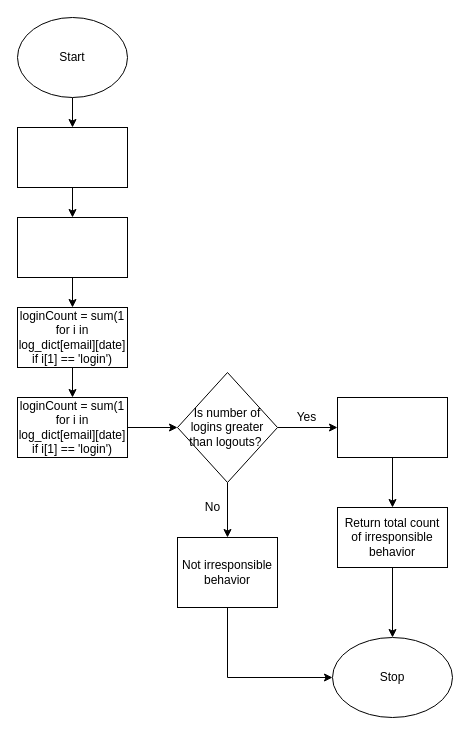
The diagram is 470 pixels wide and 735 high, and some of its shapes have lost their labels. The shapes that lost their labels are listed below. From the top down, each one's centre as x and y in pixels, then its label:
(72,157): create dict for irresponsible behavior
(72,247): irrCount = 0
(392,427): Irresponsible += 1
